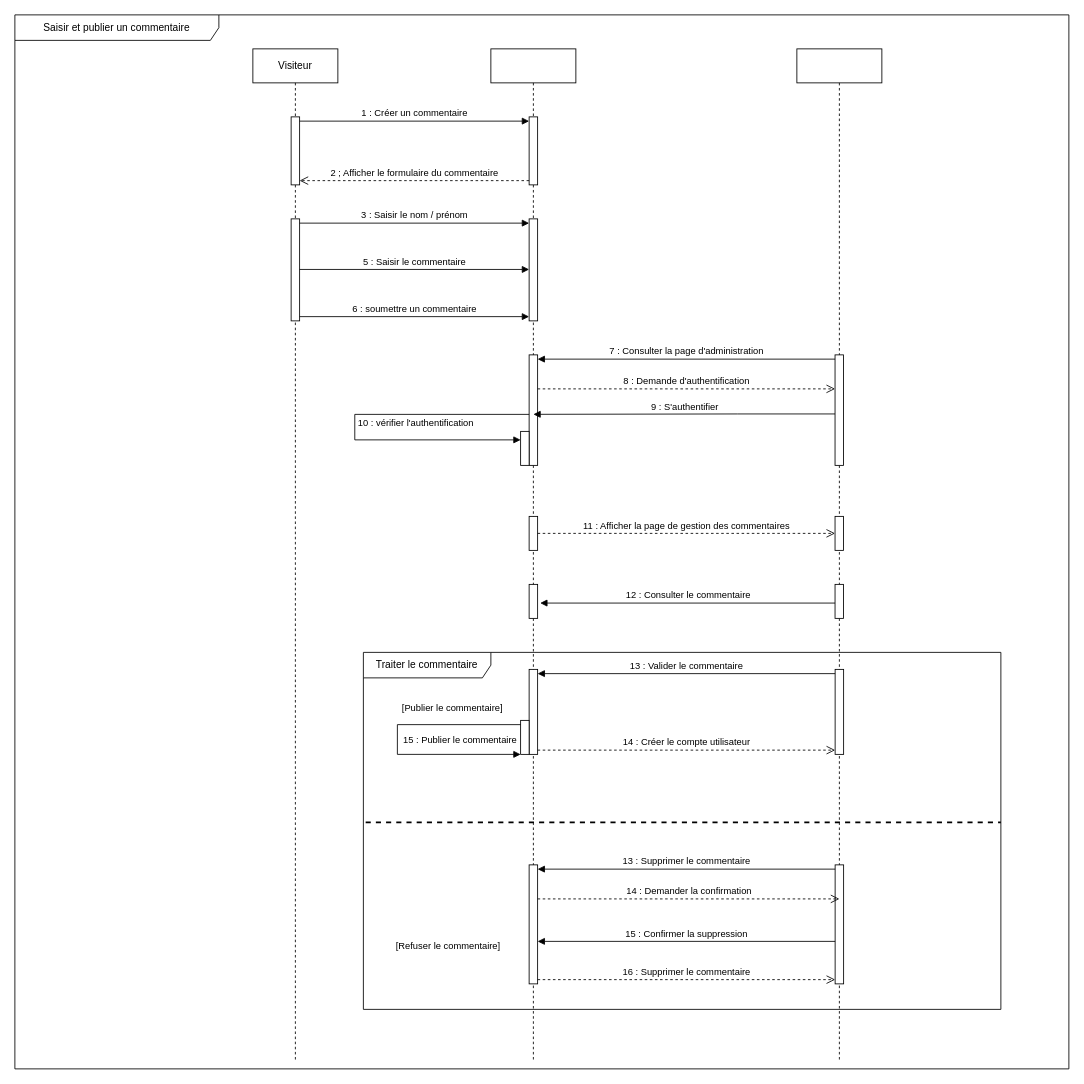
Image size: 1084x1084. Some labels were removed from this diagram. The centre of each missing label's shape, as x and y in pixels:
:Système: pixel 533 554
<<user>> Administrateur: pixel 839 554
